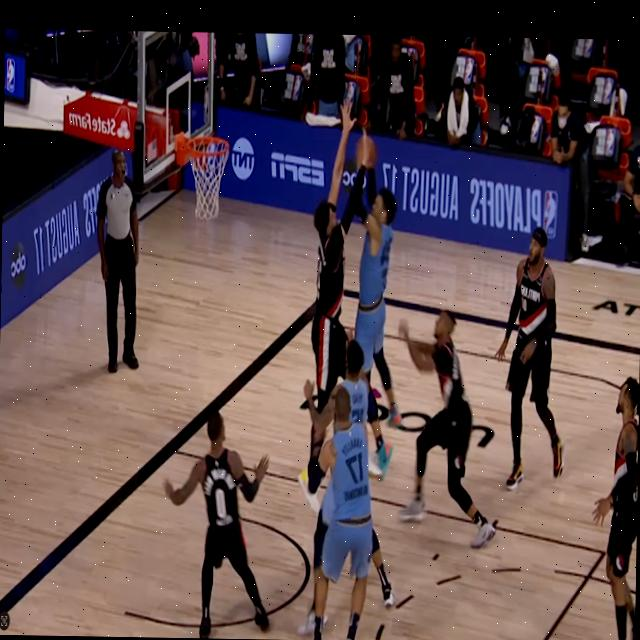foul: (304, 82, 404, 470)
no foul: (293, 358, 397, 606), (278, 388, 372, 640)
